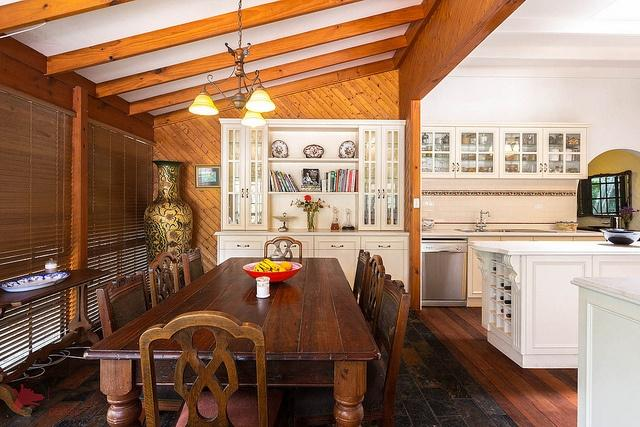Kursi: (138, 309, 284, 426)
Meja: (80, 256, 381, 424)
